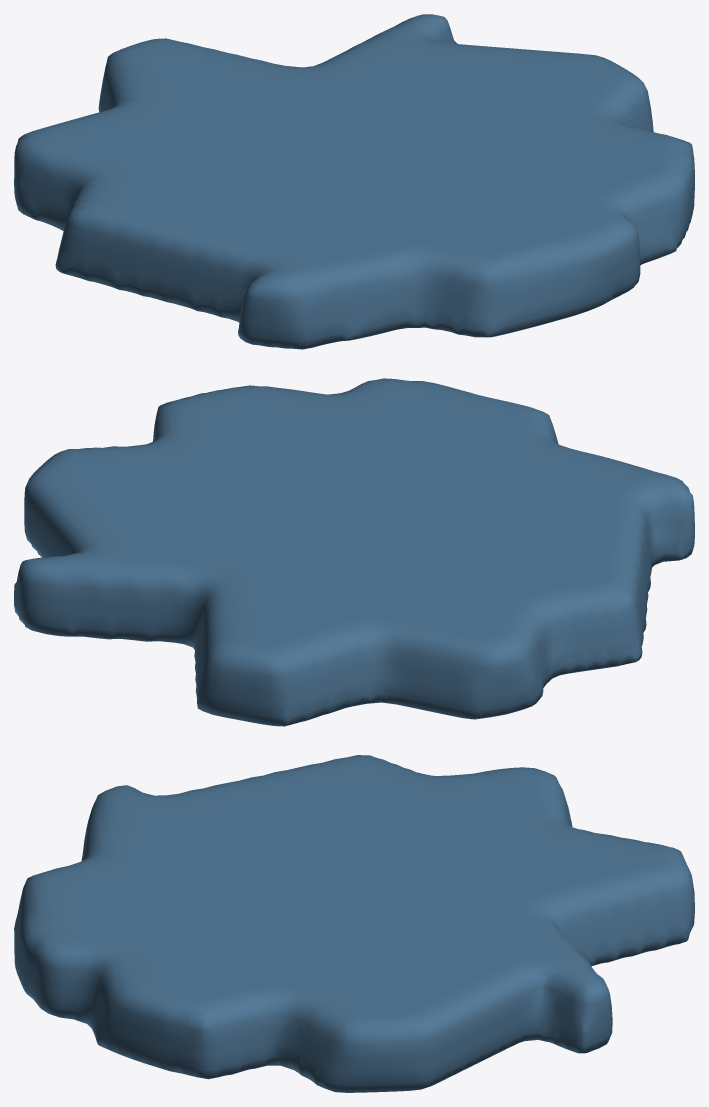
The model's file is Glace.fbx.
3 renders of one model, top to bottom at view 1: azimuth 30°, elevation 25°; view 2: azimuth 150°, elevation 25°; view 3: azimuth 270°, elevation 25°, orthographic. The views are drawn at different scales.
Visible parts, largest first — view 1: Platform; view 2: Platform; view 3: Platform.
Part boxes in pixels (x1=…): Platform: x1=14, y1=14, x2=694, y2=349; Platform: x1=14, y1=378, x2=694, y2=726; Platform: x1=14, y1=755, x2=694, y2=1092.
Size of the model in its own units: 253 by 28.97 by 252.
